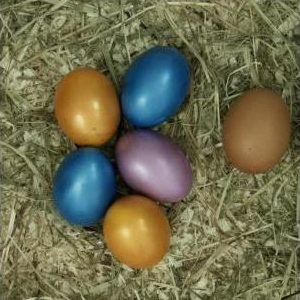egg: (222, 87, 293, 173), (121, 46, 192, 130), (113, 130, 194, 203), (53, 68, 121, 145), (101, 194, 171, 268), (51, 145, 113, 226)
